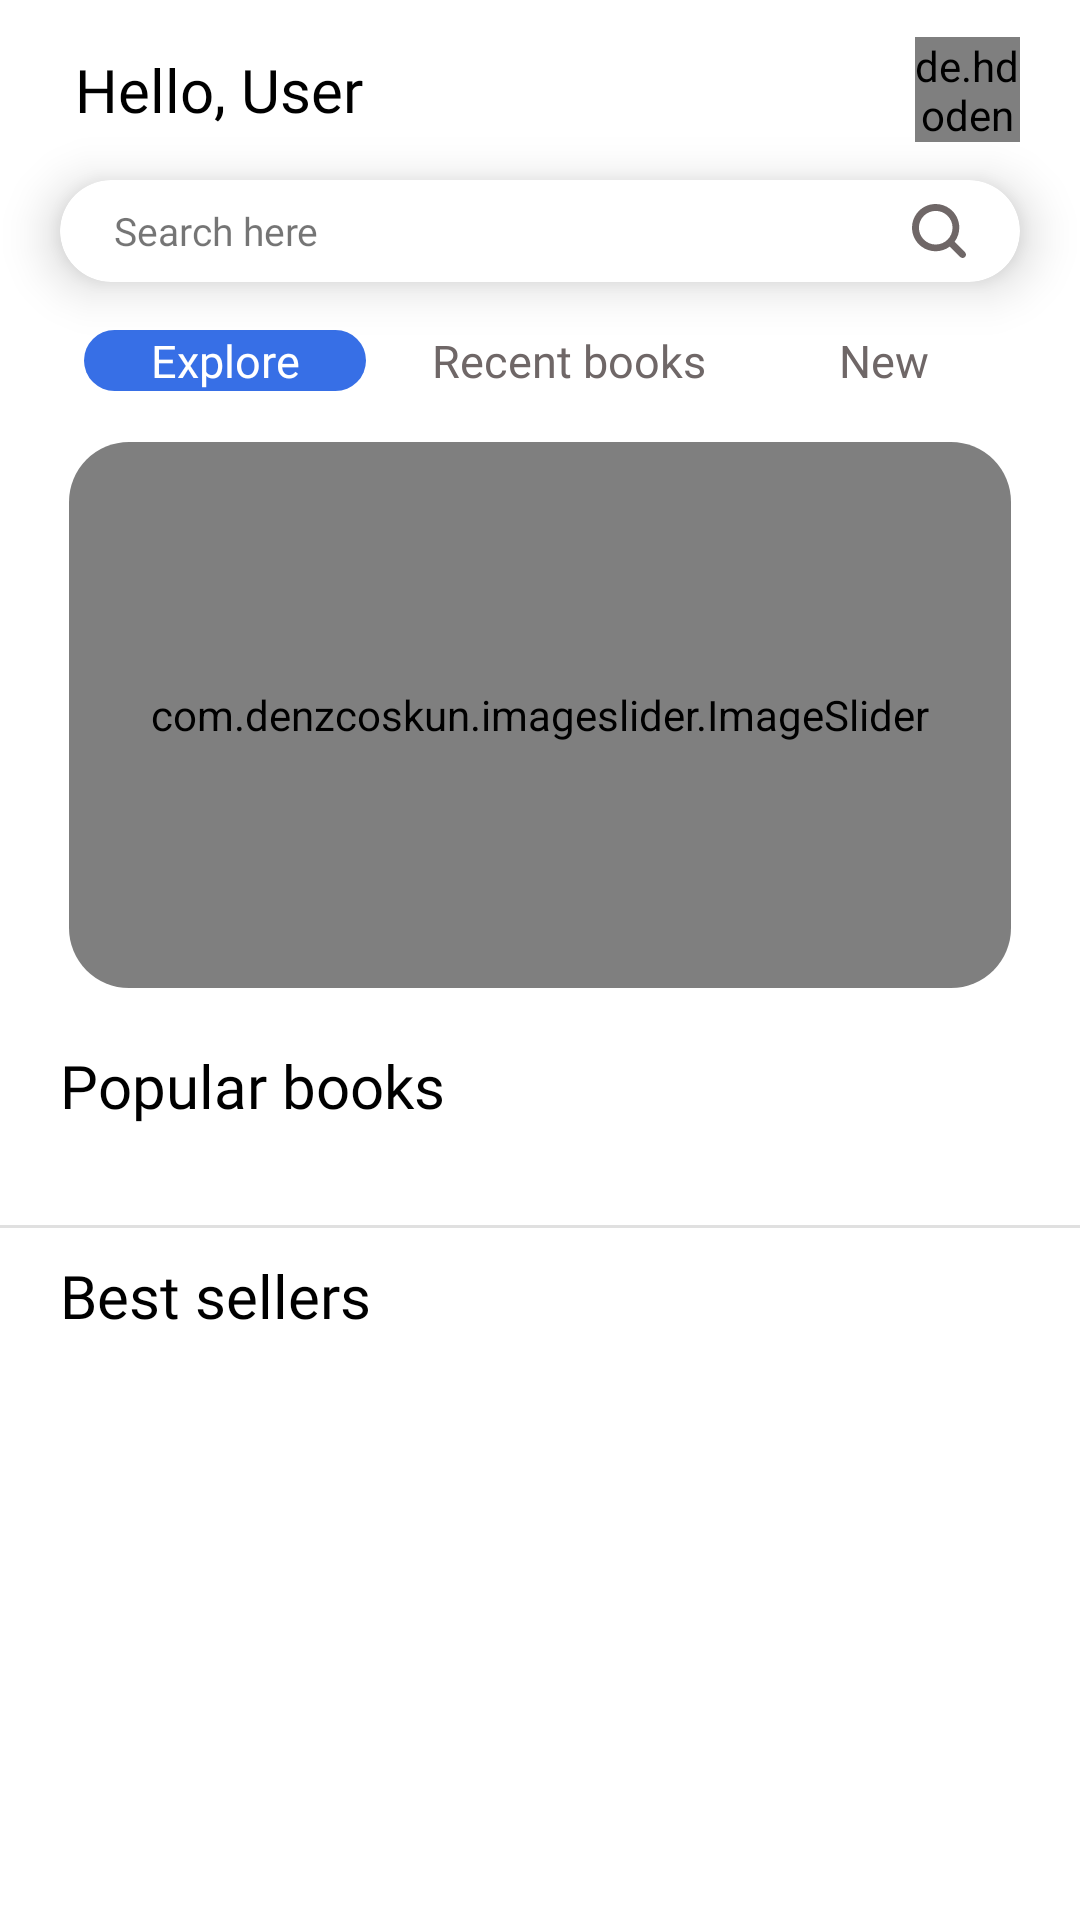

Icons on this 1080x1920 Android screen, each with its box as Rect(x1, y1, x2, y2):
search: Rect(912, 204, 966, 258)
